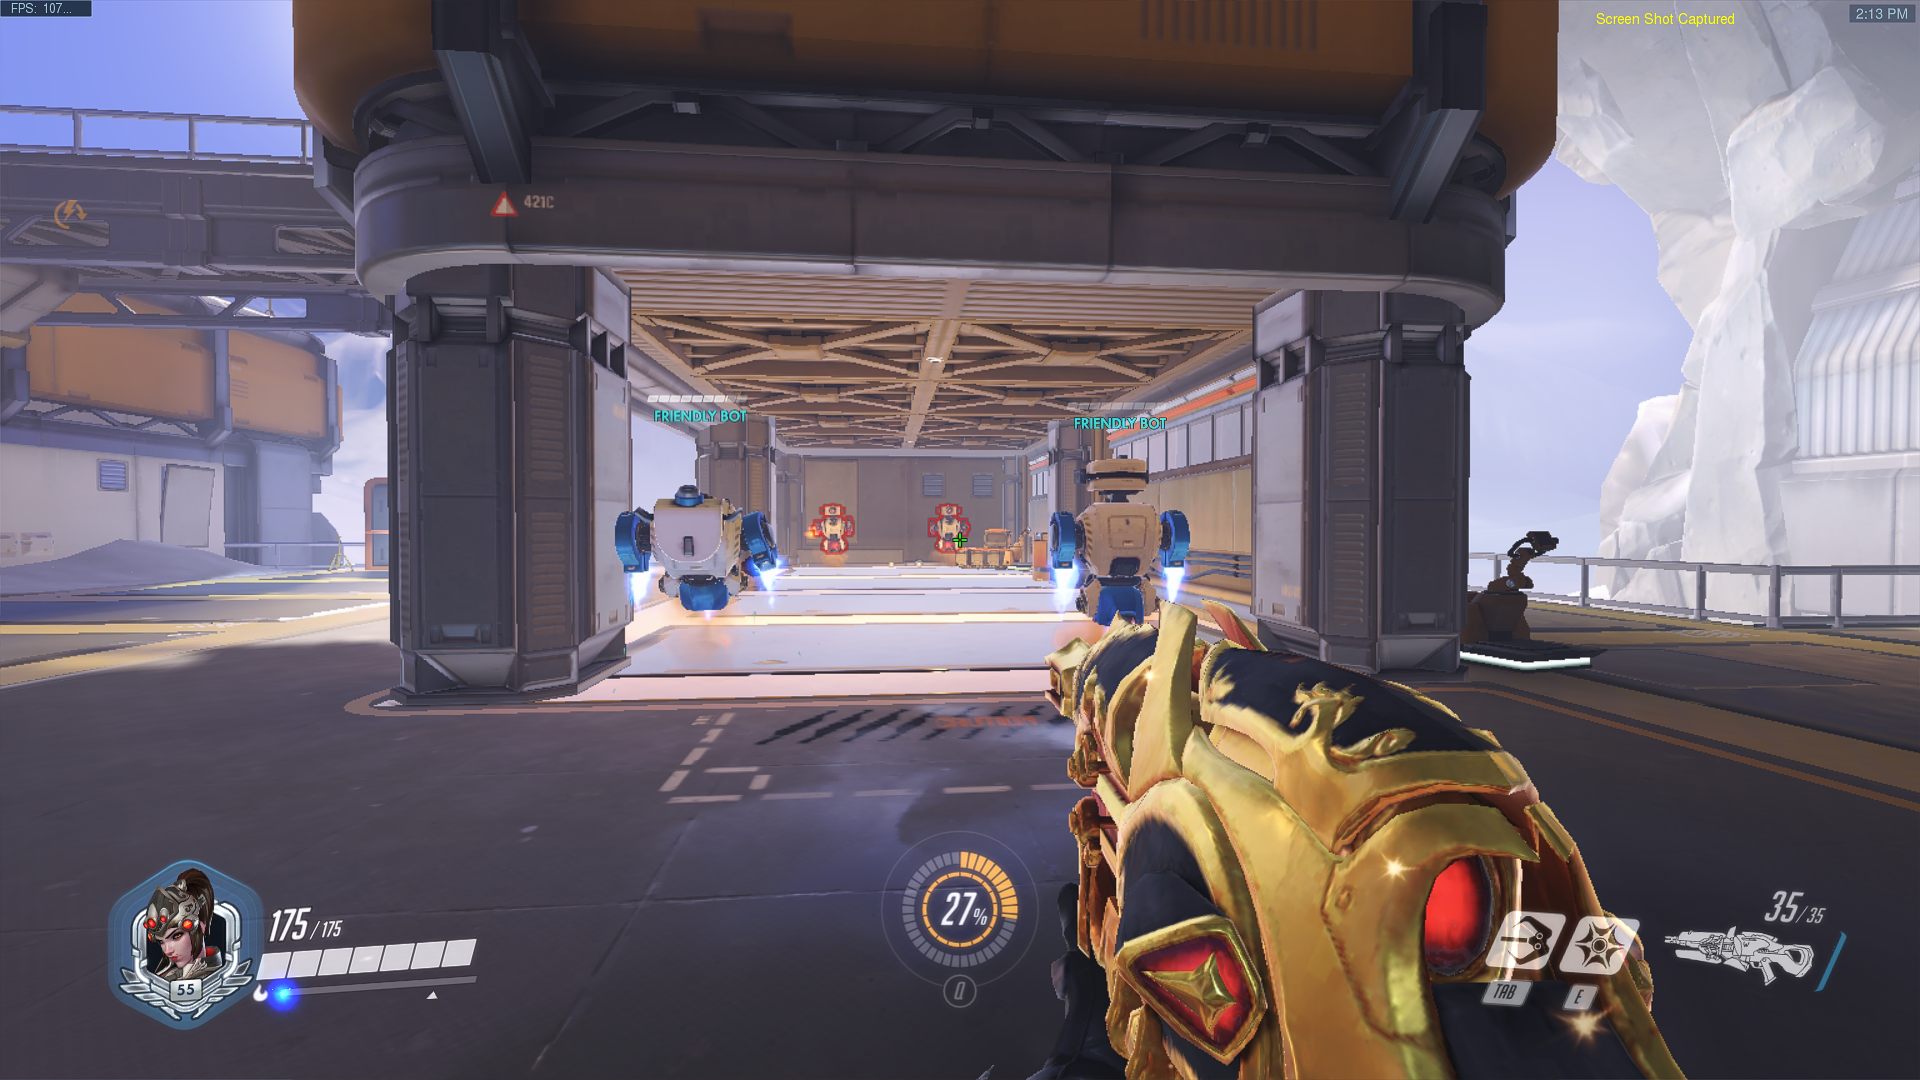head: (1074, 456, 1166, 512), (819, 501, 848, 519), (936, 502, 963, 519)
